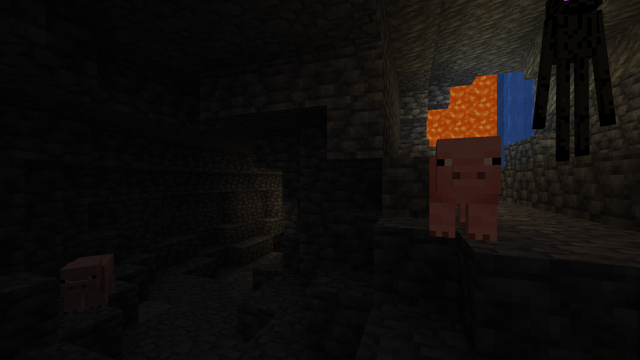cochons: (417, 151, 515, 242), (50, 252, 126, 315)
endermens: (541, 0, 607, 158)
